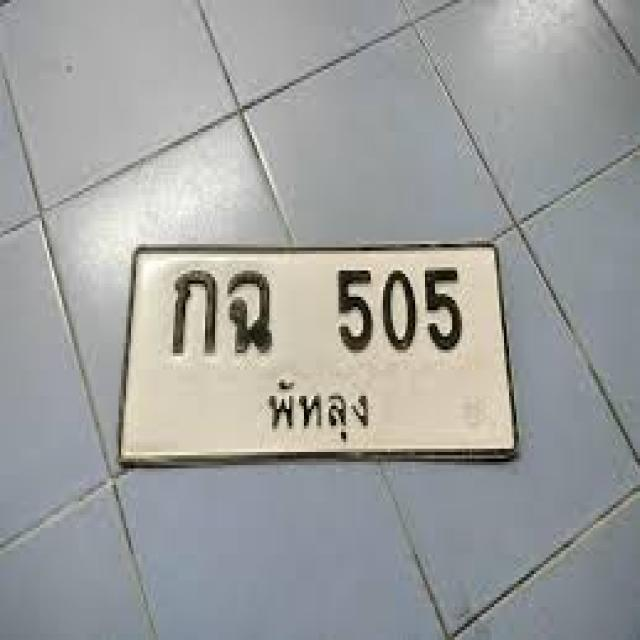PLG: (266, 370, 375, 440)
